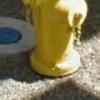a fire hydrant: (22, 0, 90, 77)
